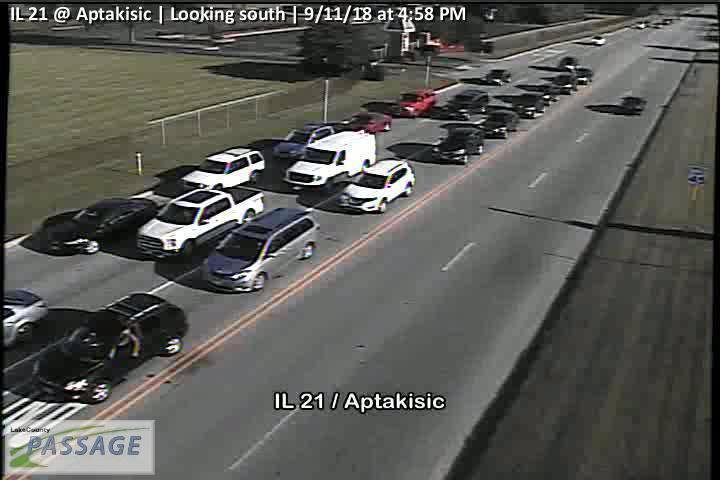SUV: (203, 205, 321, 294), (338, 158, 415, 215), (179, 146, 266, 192)
Sedan: (30, 290, 187, 405), (42, 195, 155, 258), (1, 290, 49, 352), (431, 125, 484, 165), (272, 124, 333, 158), (393, 88, 437, 117), (443, 89, 488, 117), (344, 110, 392, 135), (480, 109, 518, 138), (510, 94, 546, 118), (549, 75, 577, 96), (570, 66, 595, 84), (484, 69, 510, 86)
Truck: (135, 187, 263, 263), (283, 130, 377, 193)
